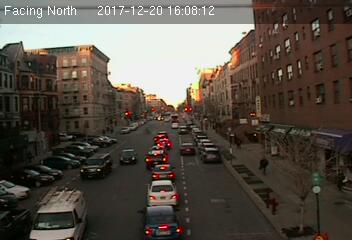car: (137, 204, 185, 239), (145, 180, 179, 205), (80, 154, 114, 178), (143, 150, 168, 168), (151, 164, 176, 181), (117, 148, 138, 165), (202, 147, 220, 162), (180, 141, 196, 155)
pedestrian: (259, 155, 268, 175)
truck: (28, 187, 87, 240)
